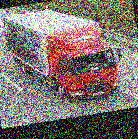truck: (2, 0, 128, 110)
